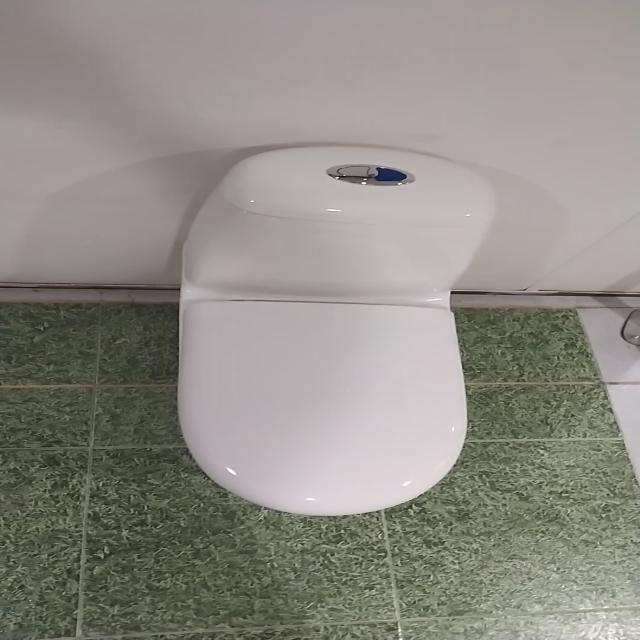toilet: (175, 144, 498, 516)
